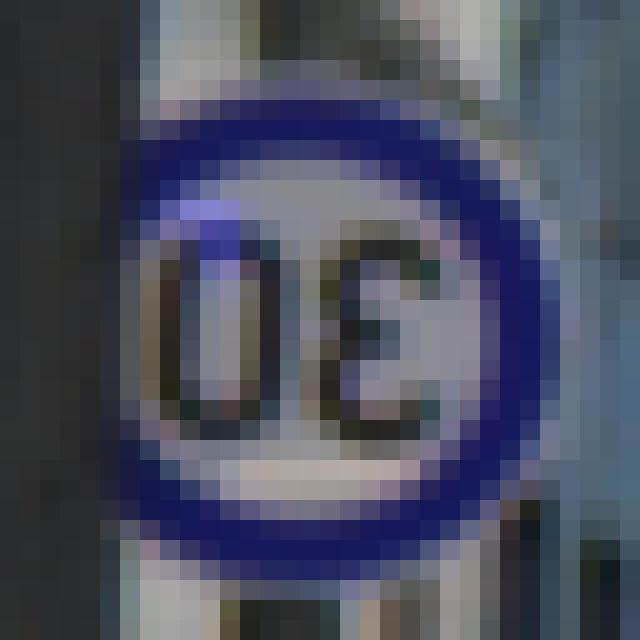SPEED LIMIT 30: (80, 116, 508, 570)
